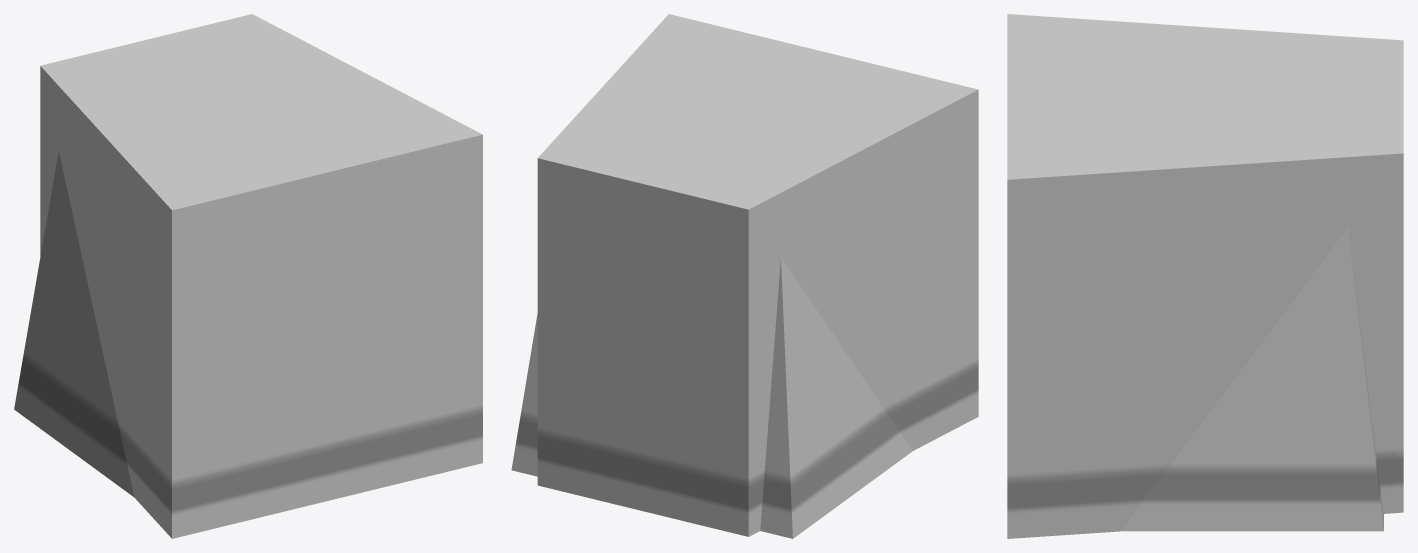
File: Standard.glb
3 renders of one model, left to right at view 1: azimuth 30°, elevation 25°; view 2: azimuth 150°, elevation 25°; view 3: azimuth 270°, elevation 25°, orthographic. The views are drawn at different scales.
Visible parts, largest first — view 1: Flat, Cap; view 2: Flat, Cap; view 3: Flat, Cap.
Boxes of the visible parts, x1,y1,x2,y2 form: Flat: [40, 14, 482, 538]; Cap: [14, 35, 403, 496]; Flat: [537, 14, 978, 536]; Cap: [511, 47, 912, 538]; Flat: [1007, 14, 1403, 538]; Cap: [1071, 40, 1383, 531].
Bounding box in the file's own units: 0.99 × 1 × 1.
Materials: 2 (2 with a texture image).
